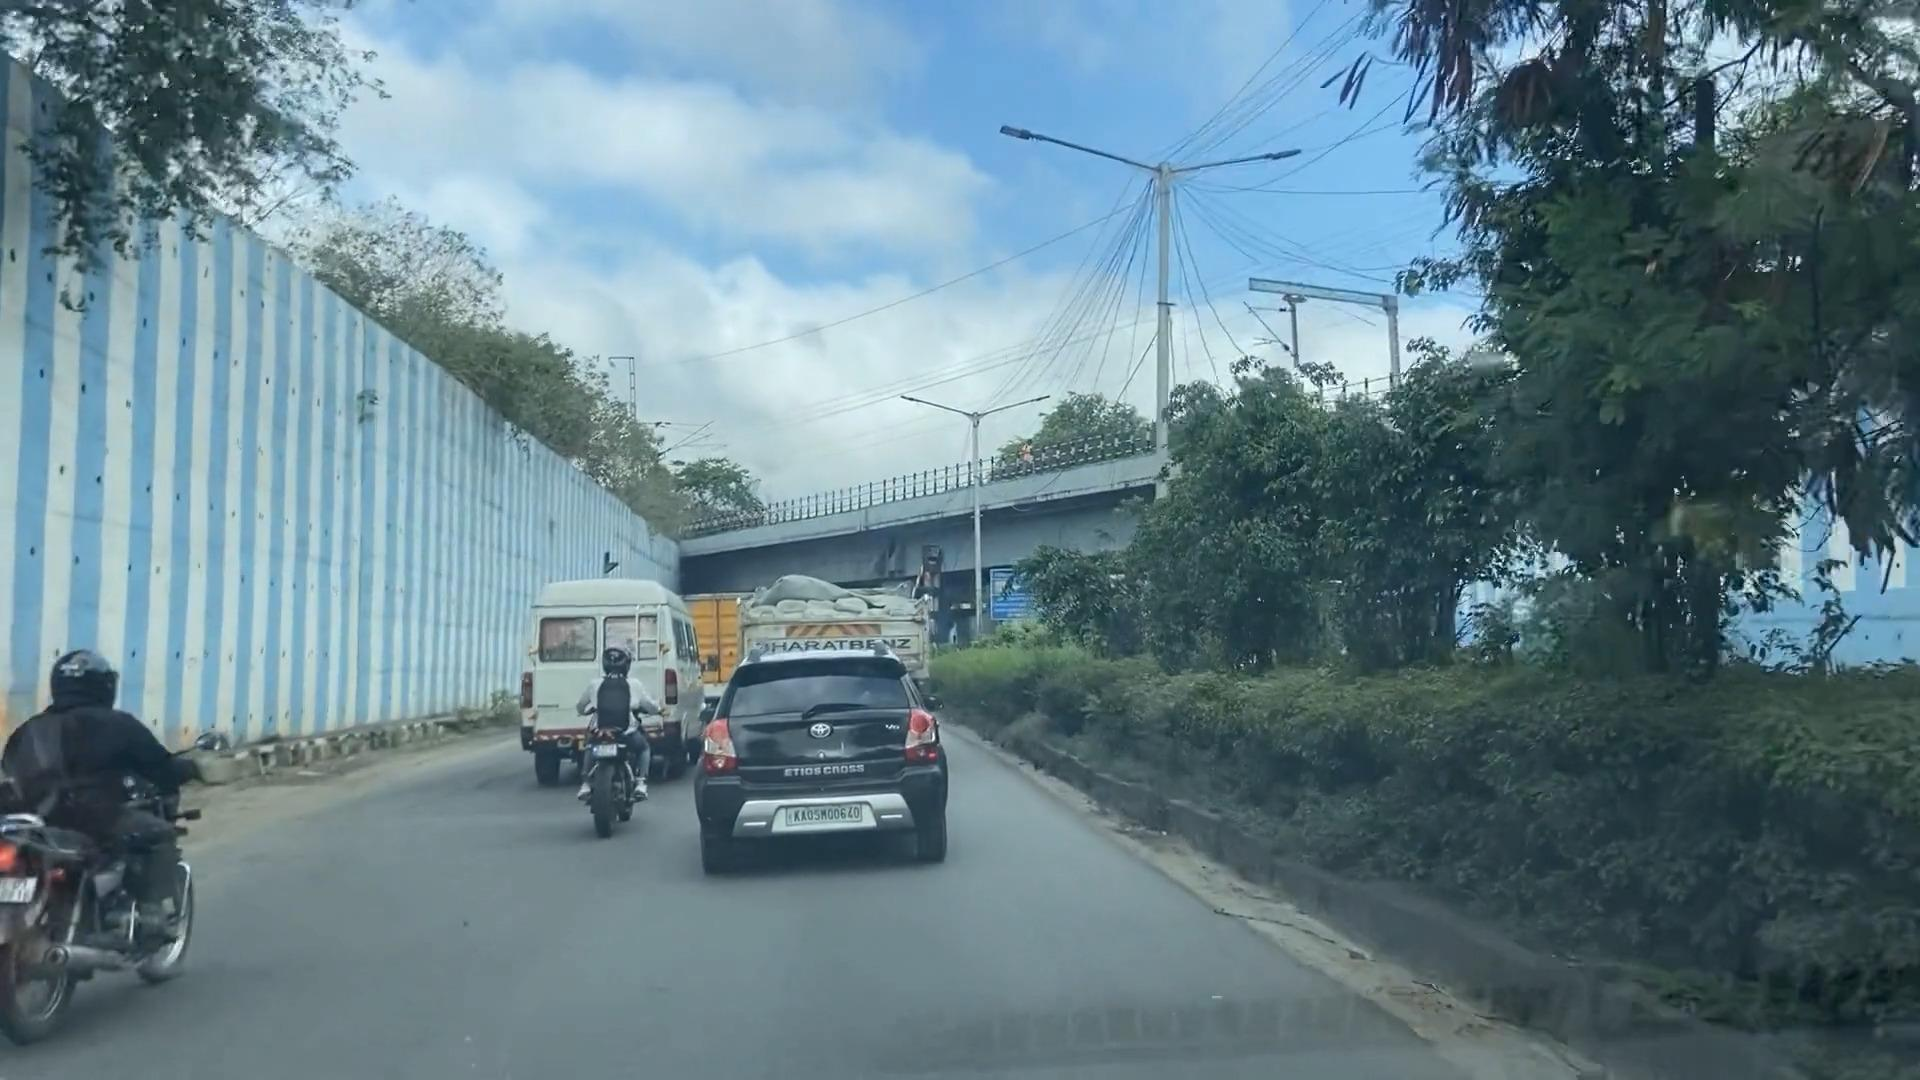LMV: (0, 649, 171, 1046), (698, 651, 956, 885), (556, 637, 650, 858)
